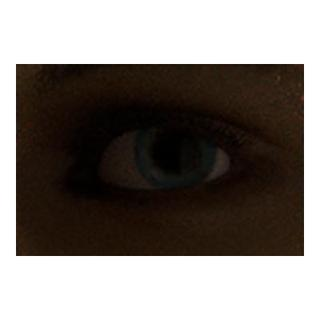pupil: (155, 129, 195, 170)
